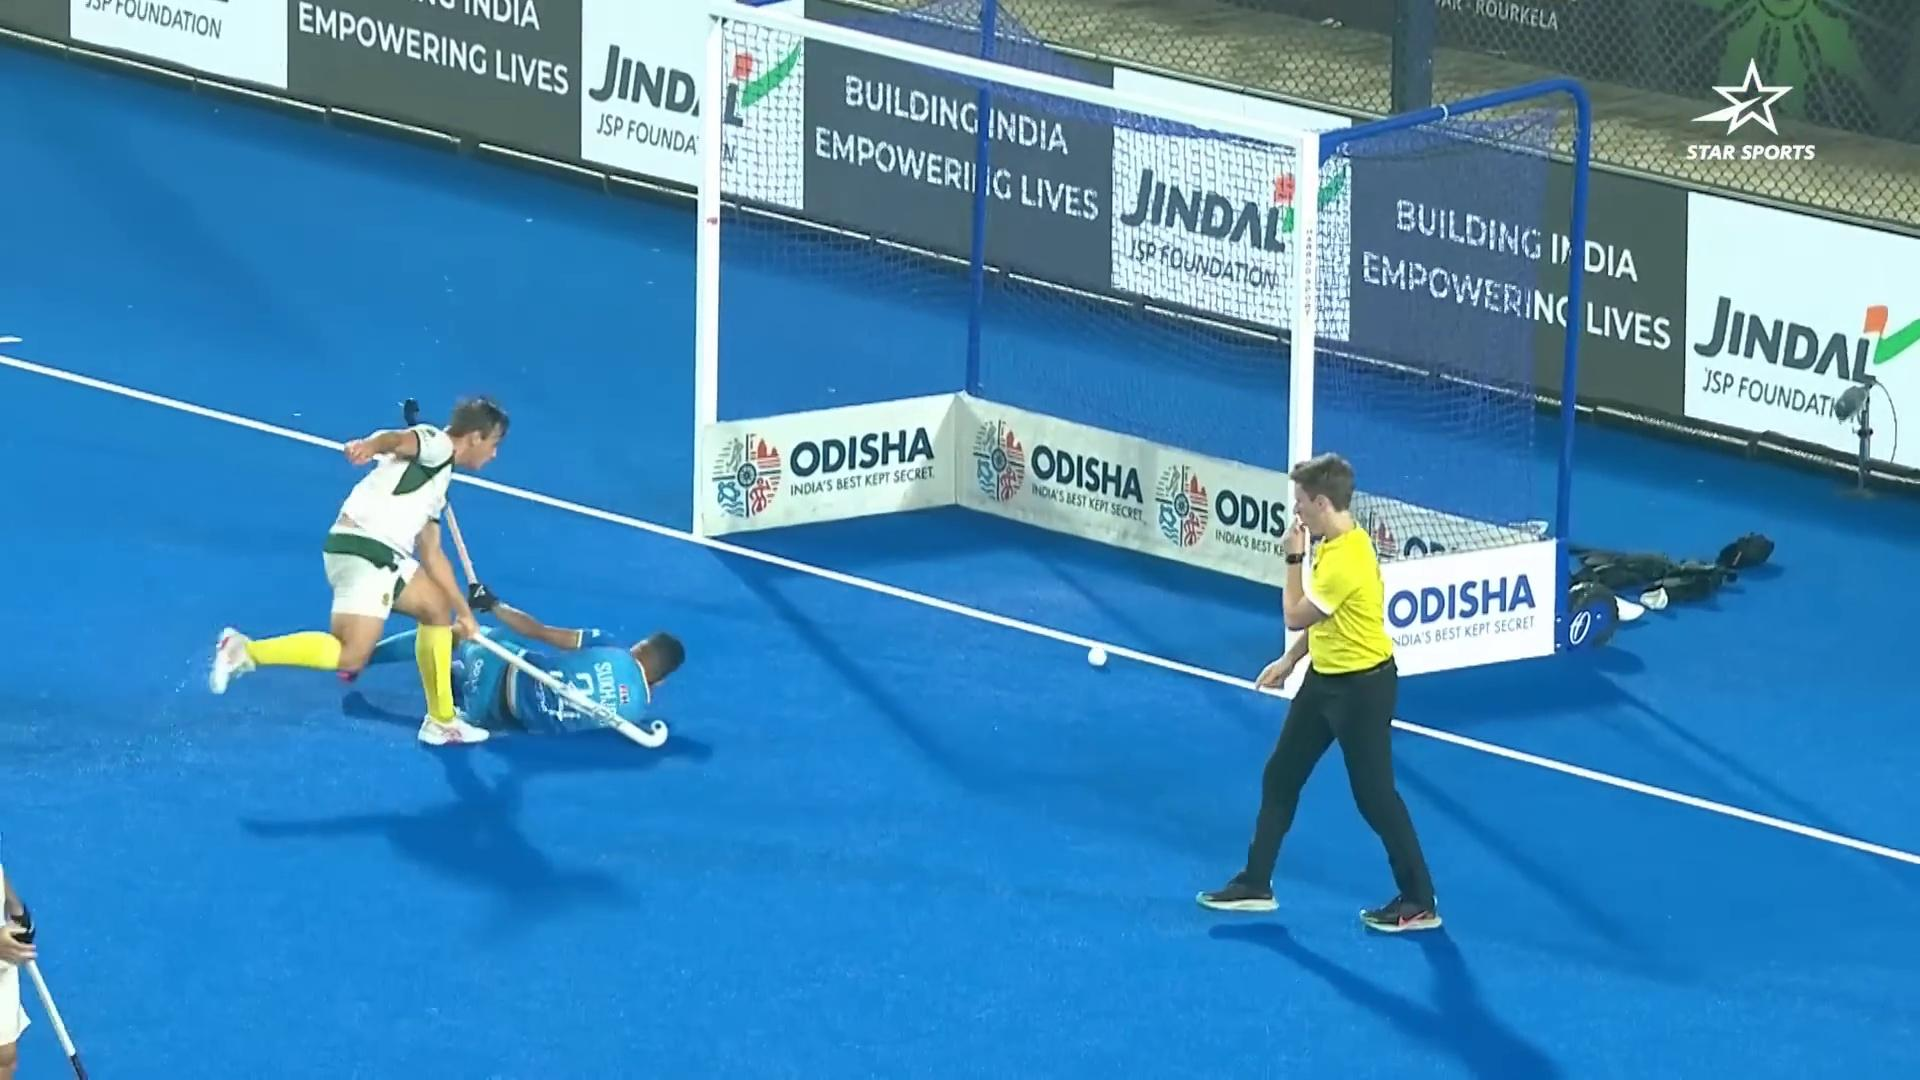ball: (1065, 618, 1125, 680)
